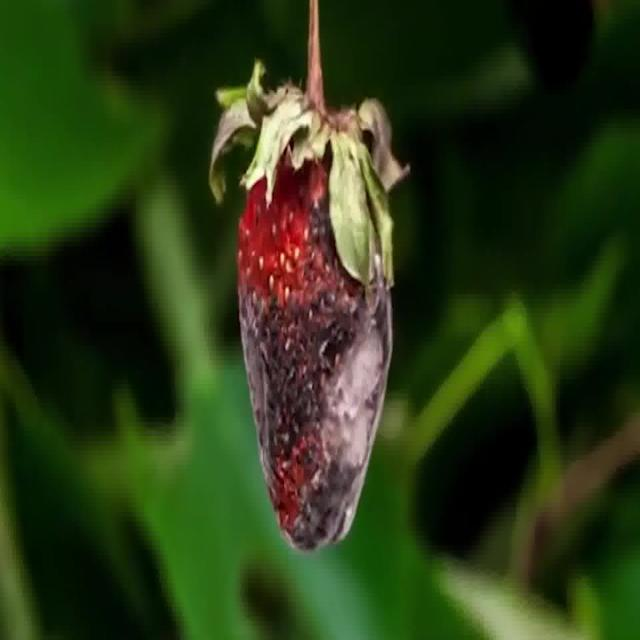Moho gris: (240, 166, 401, 581)
